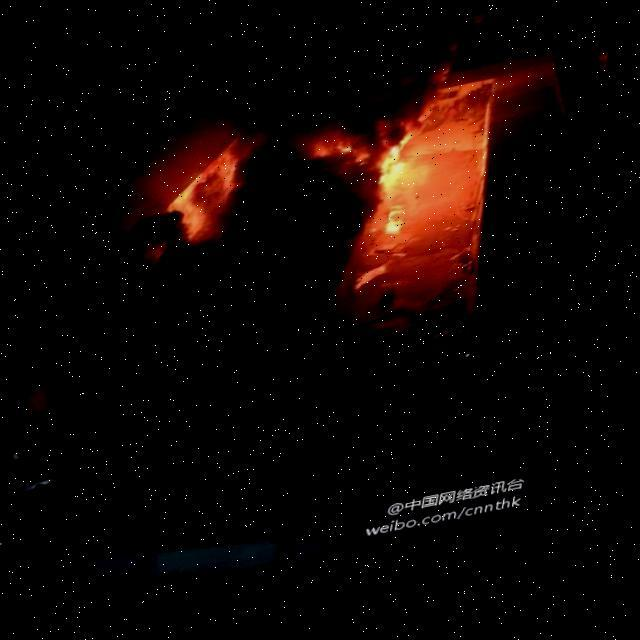Fire: (370, 148, 434, 258), (177, 169, 240, 248)
